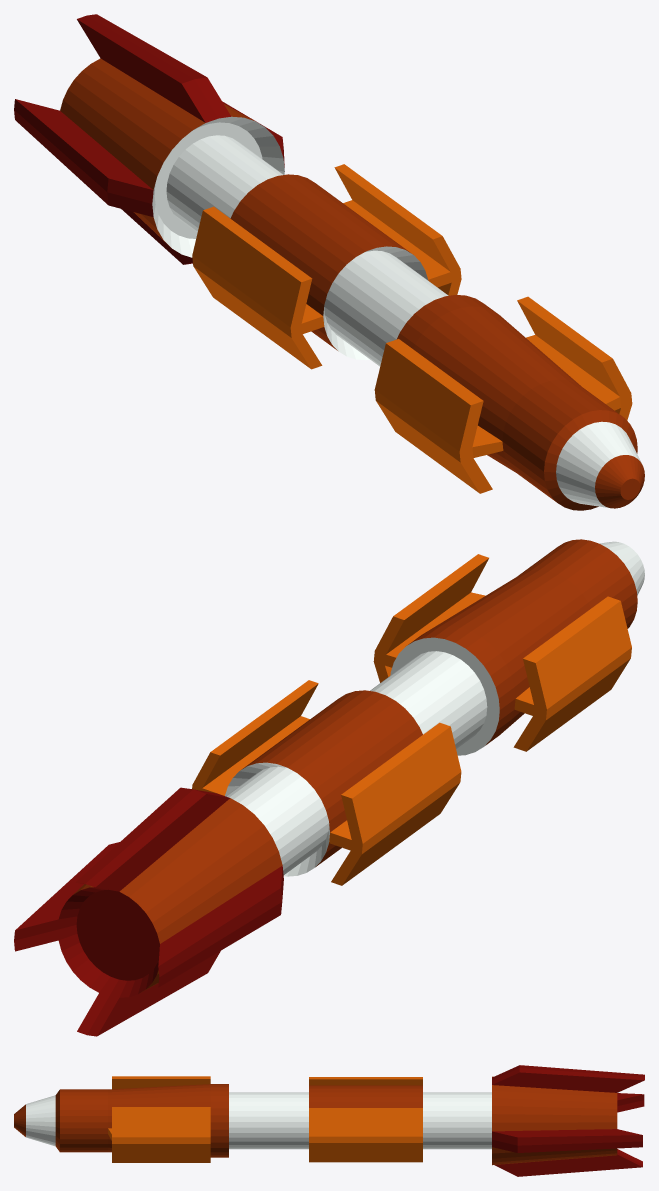
The model's file is Rocket5.fbx.
3 views of the same model, one above another, from view 1: azimuth 30°, elevation 25°; view 2: azimuth 150°, elevation 25°; view 3: azimuth 270°, elevation 25° (orthographic). The views are drawn at different scales.
Visible parts, largest first — view 1: Cylinder.001; view 2: Cylinder.001; view 3: Cylinder.001.
Boxes of the visible parts, box(x1,y1,x2,y2) form: Cylinder.001: box(14, 14, 644, 510); Cylinder.001: box(14, 539, 644, 1036); Cylinder.001: box(14, 1065, 644, 1176).
Size of the model in its own units: 0.3599 by 0.358 by 1.93.
